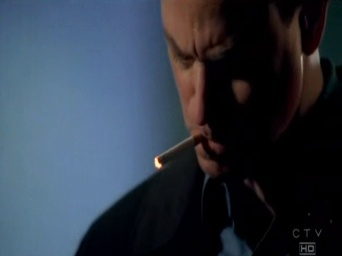smoke: (150, 131, 204, 168)
